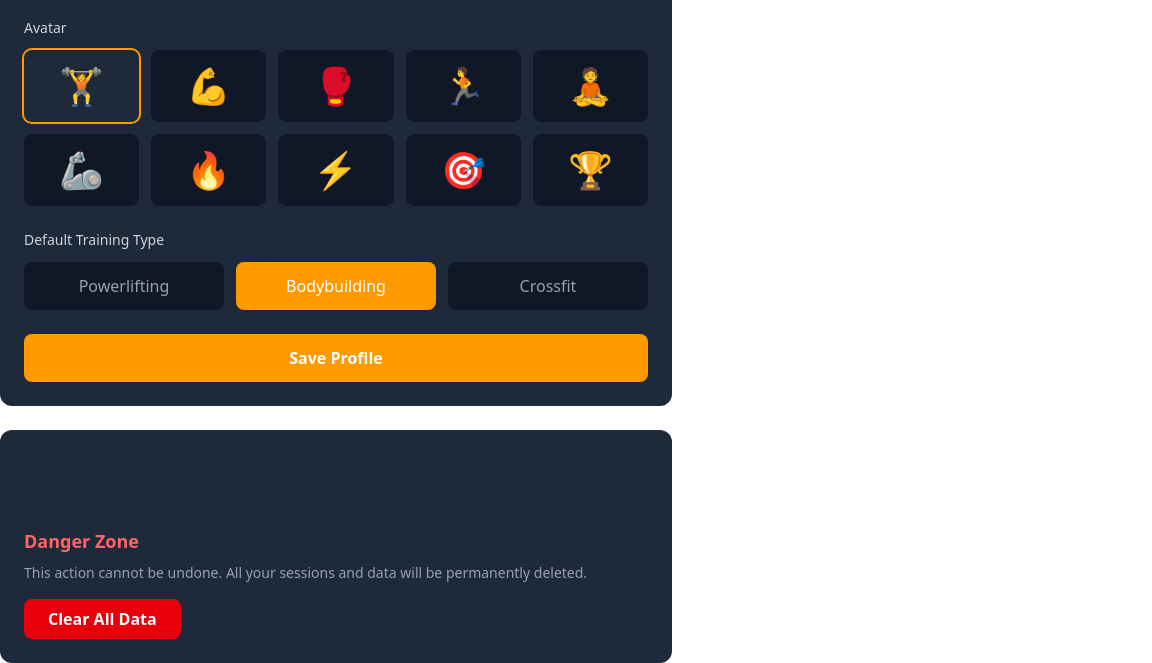
Test: ProfilePage › shows confirmation before clearing data
(page scrolled)
Click the button "Clear All Data" at (102, 619), box 24,599 -> 181,639
(page scrolled)
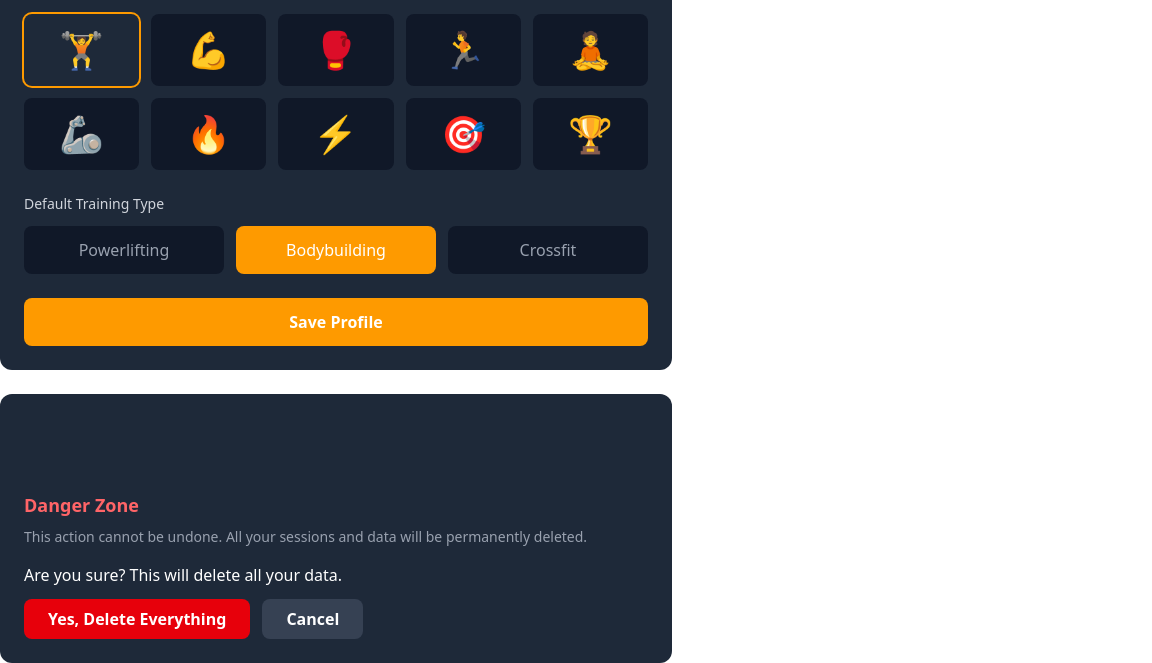
Result: the text "Are you sure? This will delete all your data." is shown at 24,564 -> 342,586
Result: the button "Yes, Delete Everything" is shown at 24,599 -> 250,639
Result: the button "Cancel" is shown at 262,599 -> 363,639
